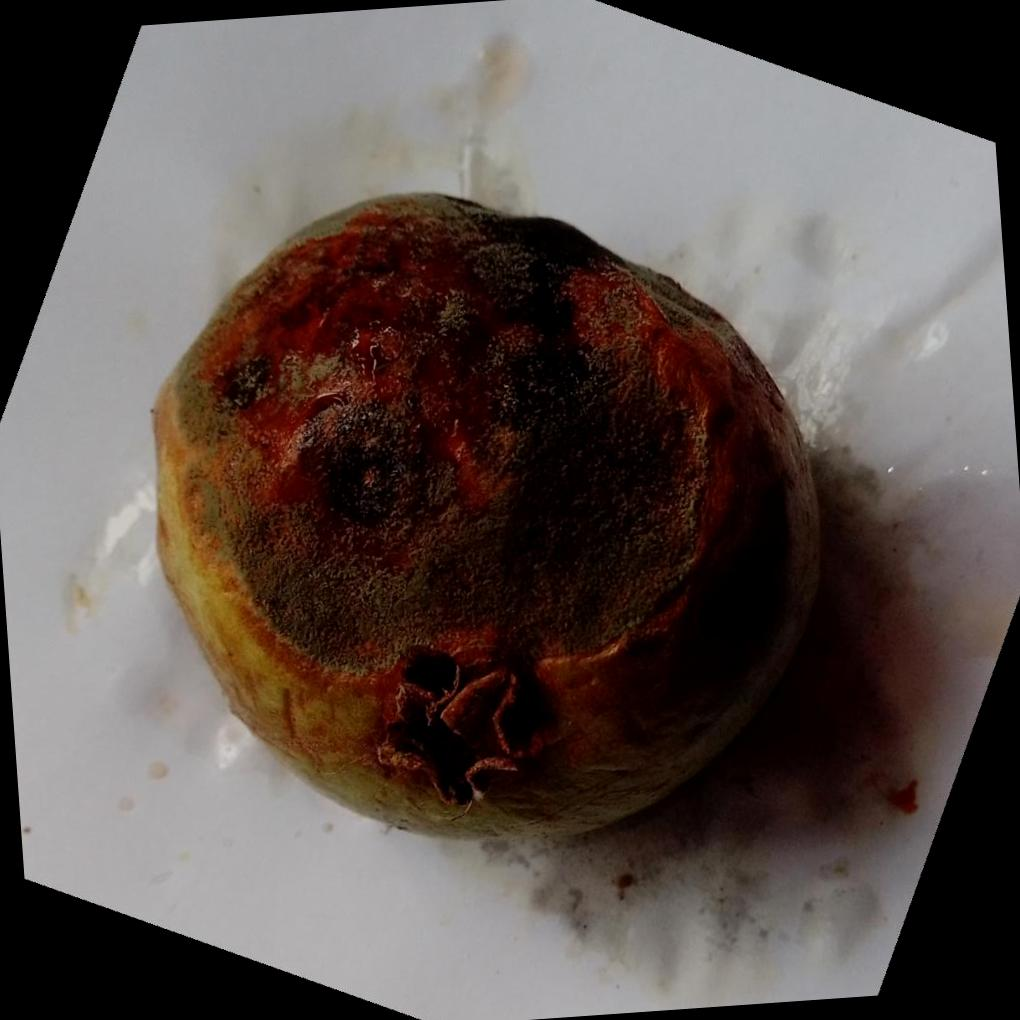FreshOrange: (152, 190, 830, 852)
